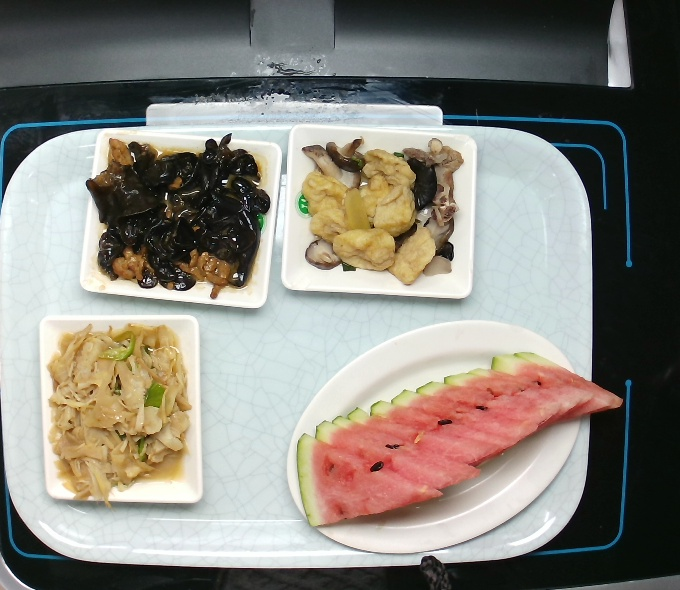wcq-LuSun: (49, 324, 192, 506)
wcq-MuErChaoRou: (105, 147, 264, 288)
wcq-XiGua: (285, 352, 624, 530)
wcq-YouPaoPaiGu: (288, 133, 470, 291)
